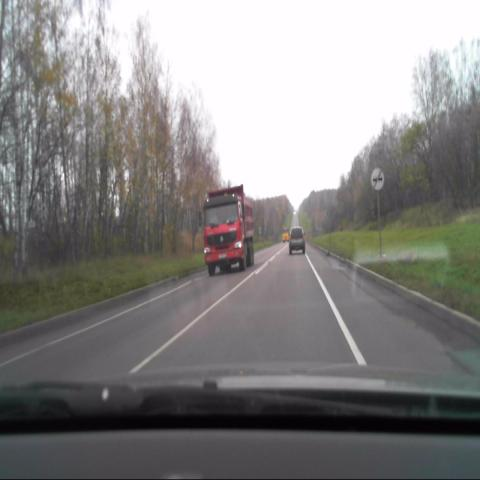3_21: (371, 167, 384, 190)
